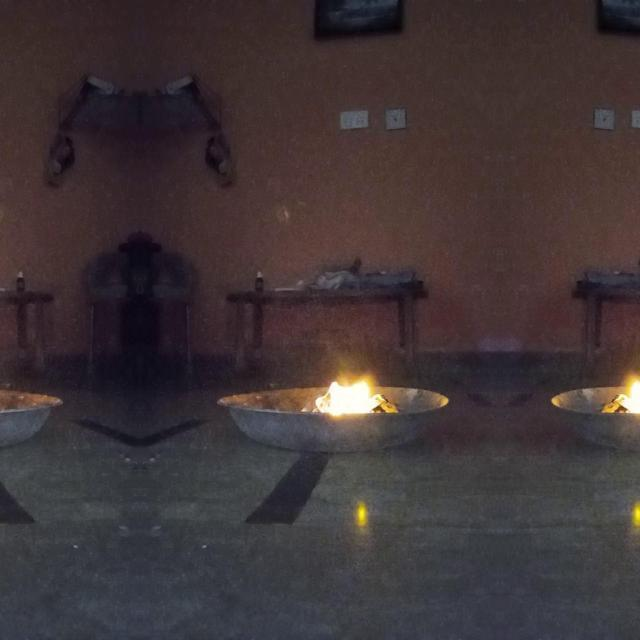smoke: (308, 377, 398, 415), (602, 377, 640, 415)
